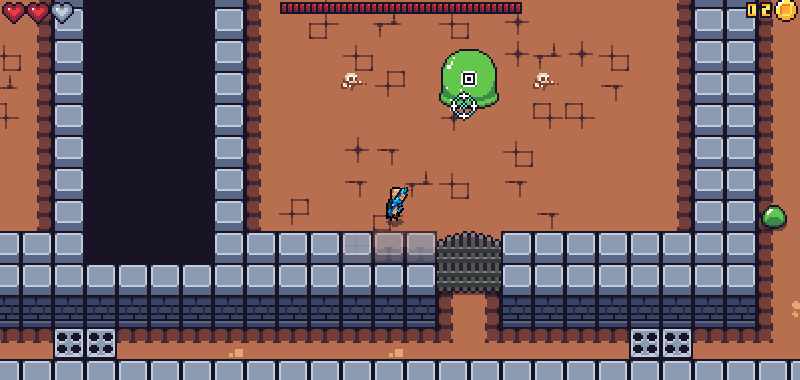enemy_slug: (758, 201, 789, 233)
enemy_slug_boss: (428, 38, 513, 120)
trap_door: (434, 225, 506, 295)
trap_off: (54, 326, 117, 359), (629, 329, 692, 357)
